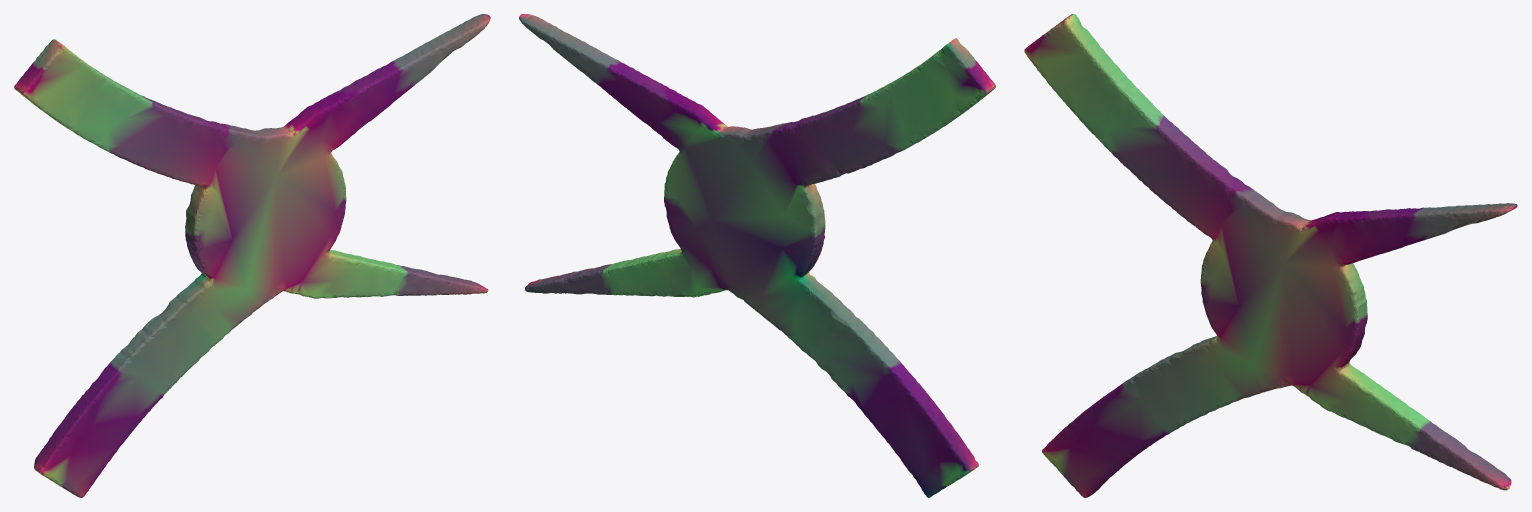
Rendered from scissor-14.off.obj.
The picture shows the model from 3 angles, left to right: view 1: azimuth 30°, elevation 25°; view 2: azimuth 150°, elevation 25°; view 3: azimuth 330°, elevation 25°; orthographic projection. The views are drawn at different scales.
Size of the model in its own units: 1.44 by 1.34 by 0.0574.
